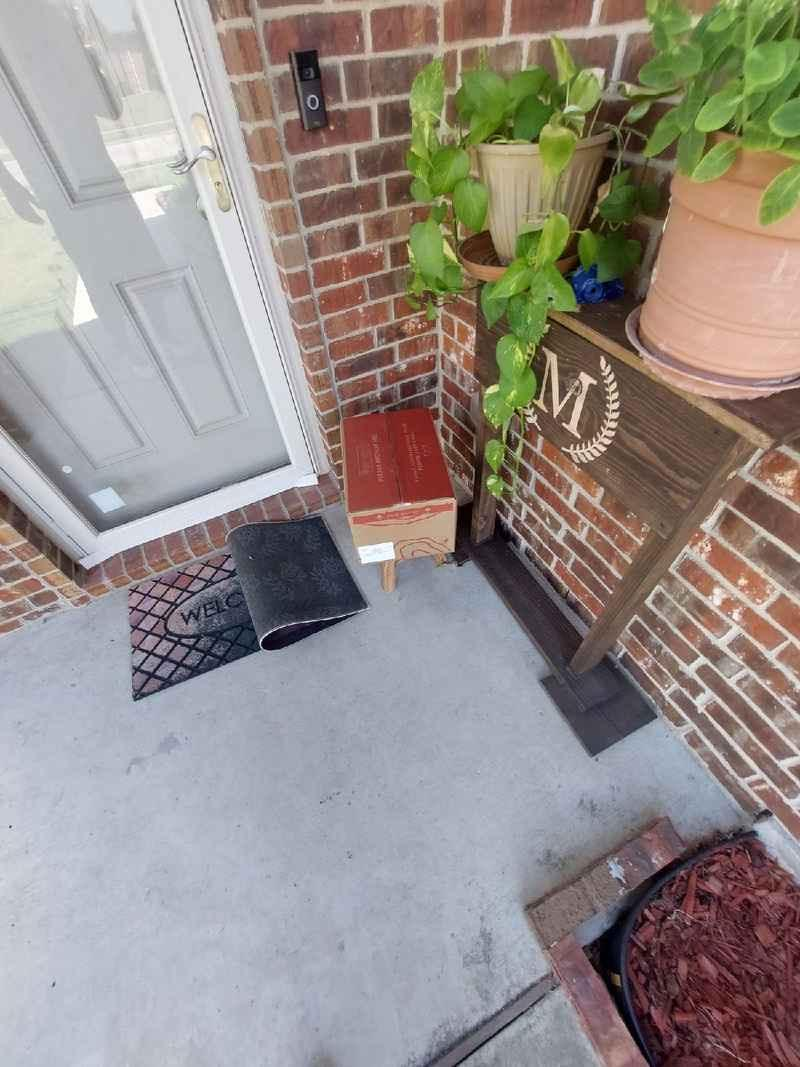package: (341, 406, 462, 575)
